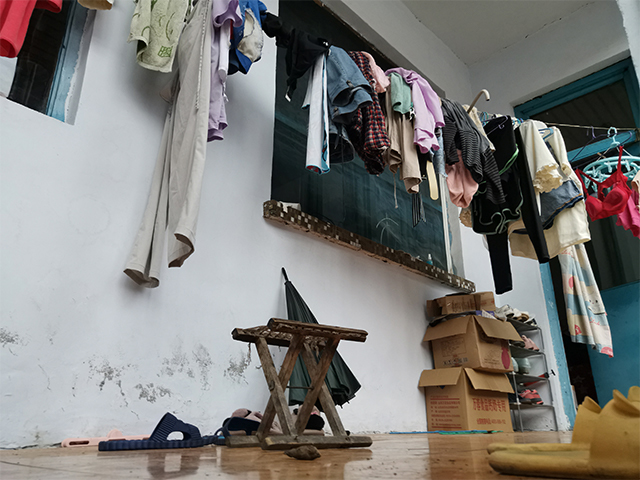feces: (281, 443, 322, 461)
slippers: (483, 384, 640, 480), (97, 412, 213, 452)
stool: (223, 315, 373, 451)
